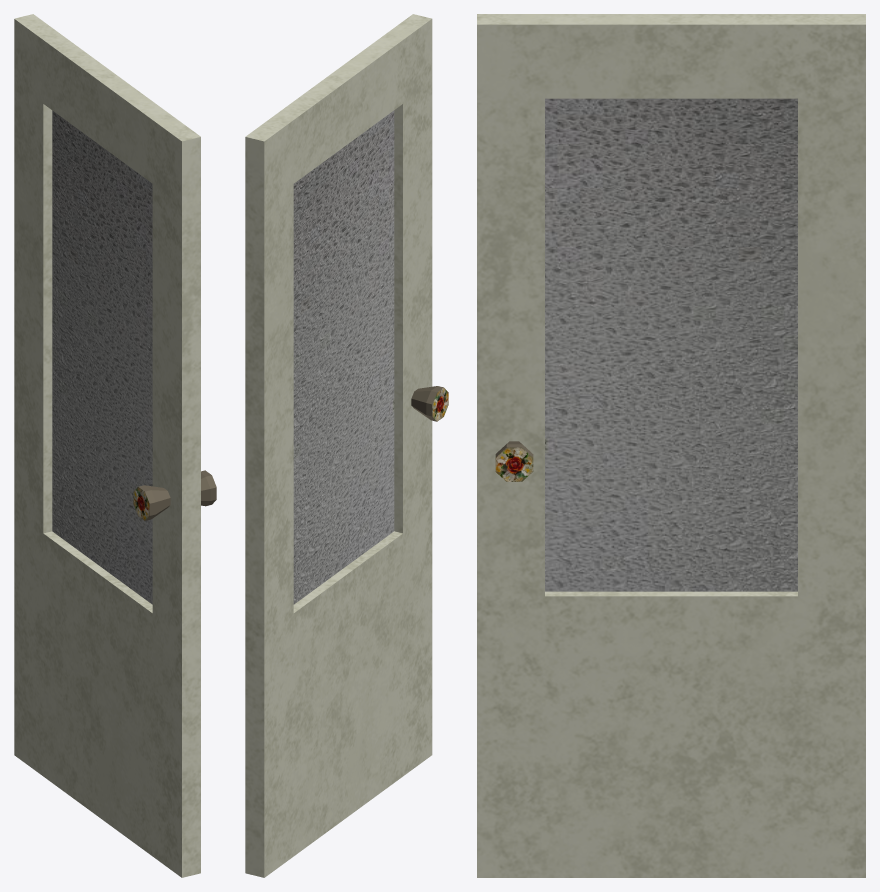
The model's file is Door_with_Glass.fbx.
3 views of the same model, side by side, from view 1: azimuth 30°, elevation 25°; view 2: azimuth 150°, elevation 25°; view 3: azimuth 270°, elevation 25° (orthographic). The views are drawn at different scales.
Visible parts, largest first — view 1: Cylinder.032; view 2: Cylinder.032; view 3: Cylinder.032.
Part boxes in pixels (bbox=[...]): Cylinder.032: bbox=[14, 14, 216, 877]; Cylinder.032: bbox=[245, 14, 448, 877]; Cylinder.032: bbox=[477, 14, 865, 877].
Size of the model in its own units: 29.13 by 305 by 126.
3 materials, 3 textured.
